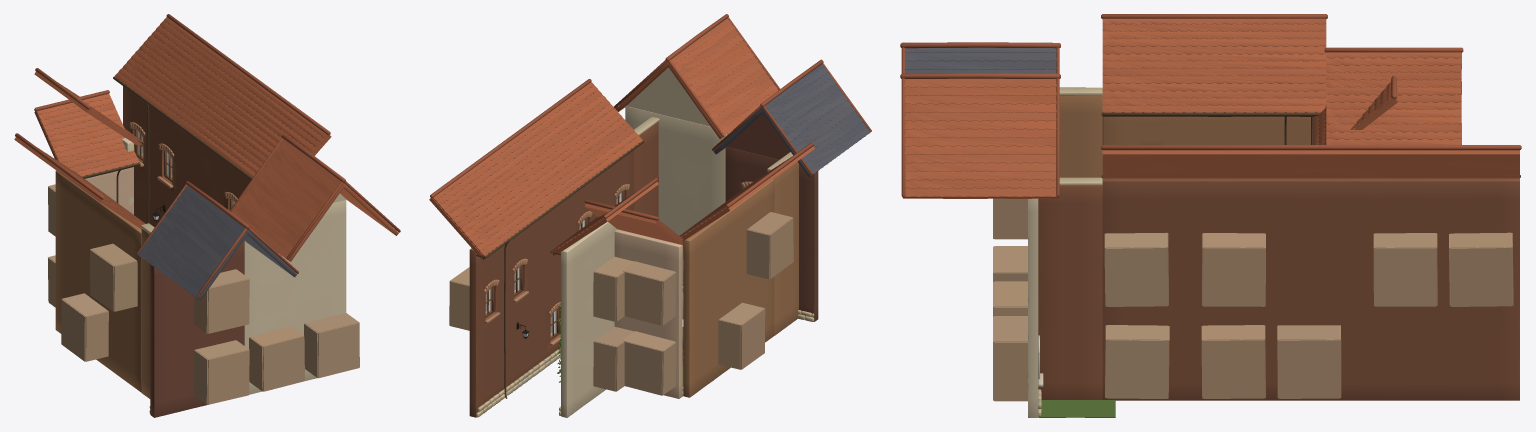
The model's file is alley_library.glb.
3 renders of one model, left to right at view 1: azimuth 30°, elevation 25°; view 2: azimuth 150°, elevation 25°; view 3: azimuth 270°, elevation 25°, orthographic. The views are drawn at different scales.
Visible parts, largest first — view 1: Sammel Stein, Sammel Ziegel, Sammel Putz innen, Sammel Putz, Sammel Metall, Sammel Holz; view 2: Sammel Stein, Sammel Ziegel, Sammel Putz, Sammel Putz innen, Sammel Metall, Sammel Holz; view 3: Sammel Ziegel, Sammel Stein, Sammel Putz innen, Sammel Putz, Sammel Blatt, Sammel Metall.
Part boxes in pixels (x1,y1,x2,y2): Sammel Stein: [14, 14, 400, 413]; Sammel Ziegel: [55, 86, 251, 417]; Sammel Putz innen: [48, 136, 359, 404]; Sammel Putz: [85, 122, 346, 394]; Sammel Metall: [74, 76, 252, 223]; Sammel Holz: [84, 129, 232, 209]; Sammel Stein: [429, 14, 871, 417]; Sammel Ziegel: [469, 113, 818, 417]; Sammel Putz: [484, 67, 752, 417]; Sammel Putz innen: [449, 198, 793, 395]; Sammel Metall: [484, 140, 757, 398]; Sammel Holz: [476, 191, 683, 364]; Sammel Ziegel: [1038, 95, 1519, 400]; Sammel Stein: [900, 14, 1521, 416]; Sammel Putz innen: [993, 198, 1513, 401]; Sammel Putz: [1028, 198, 1043, 417]; Sammel Blatt: [1038, 400, 1115, 417]; Sammel Metall: [1101, 112, 1520, 177].
Size of what is drawn, in the model's own units: 10.24 by 10.29 by 18.34.
